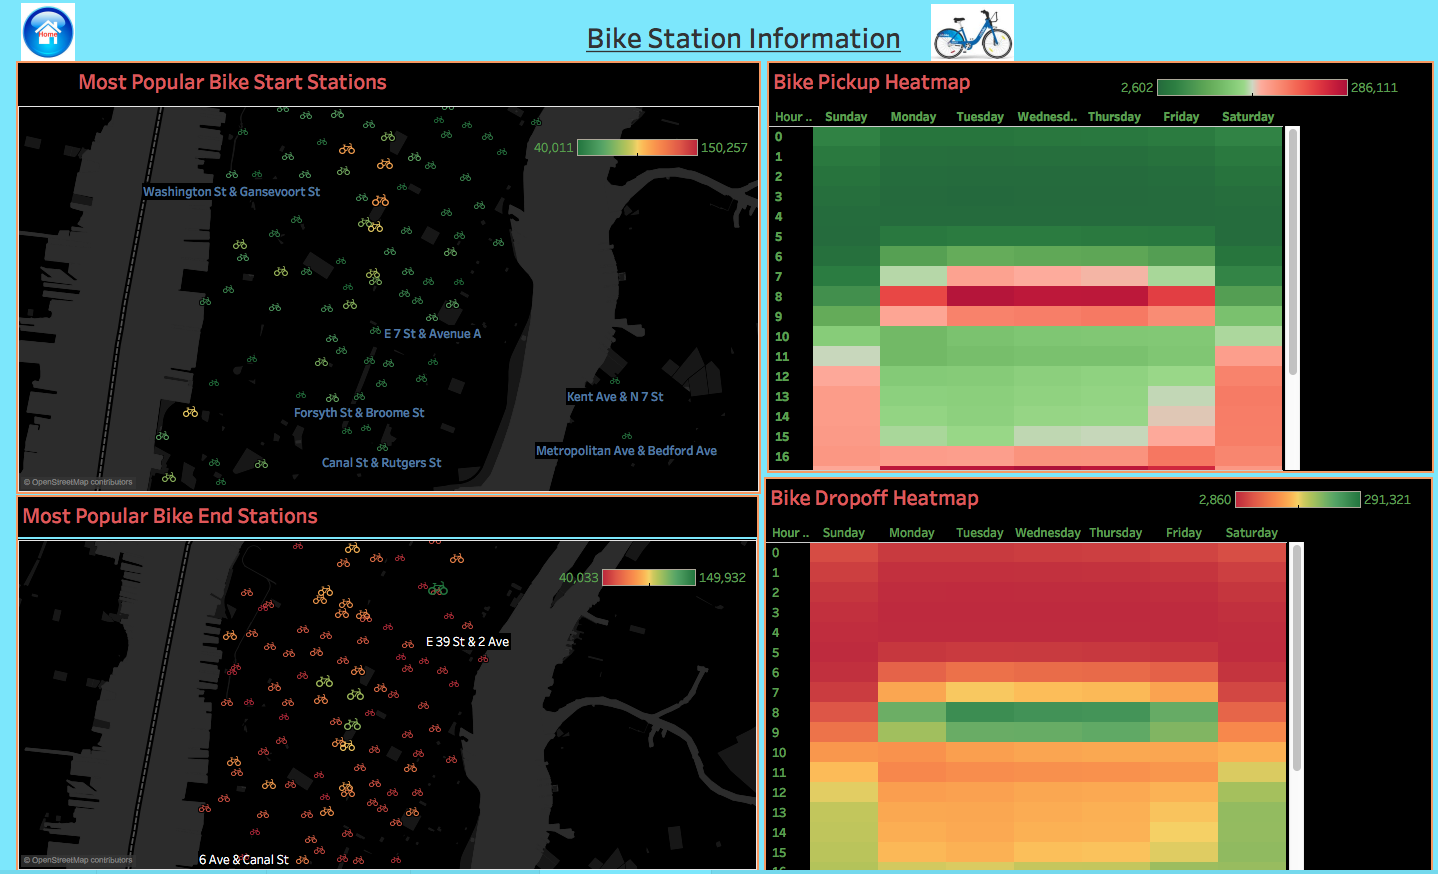

Layout of this report page (visuals, bound fields, positions):
{"tool":"tableau","page":{"name":"Bike Station Information","canvas":[1000,1000],"units":"permille","ordinal":1},"visuals":[{"type":"dashboard-object","box":[0,3.4,66.7,66.9]},{"type":"image","param":"/Users/minaljajoo/Documents/My Tableau Repository/Shapes/custom/actual_bike.jpeg","box":[646.9,5.2,99.3,65.2]},{"type":"title","box":[354.8,12,323.8,61.8]},{"type":"worksheet","title":"Bike Pickup Heatmap","mark":"Automatic","rows":["starttime"],"cols":["starttime"],"box":[533,70.2,463,473.7]},{"type":"worksheet","title":"Popular Bike StartStations","mark":"Shape","rows":["start station latitude"],"cols":["start station longitude"],"box":[11.4,70.3,517.5,497.4]},{"type":"legend","title":"Bike Pickup Heatmap","param":"[federated.14ladbp1xfaqif180skau13ugwz1].[sum:Number of Records:qk]","box":[775.4,86.1,198.5,100.5]},{"type":"legend","title":"Popular Bike StartStations","param":"[federated.14ladbp1xfaqif180skau13ugwz1].[sum:Number of Records:qk]","box":[367.8,154.7,154.6,79.7]},{"type":"legend","title":"Bike Dropoff Heatmap","param":"[federated.14ladbp1xfaqif180skau13ugwz1].[sum:Number of Records:qk]","box":[829.9,559.8,153.8,82.9]},{"type":"worksheet","title":"Popular Bike EndStations","mark":"Shape","rows":["end station latitude"],"cols":["end station longitude"],"box":[11.4,569.4,515.9,433.8]},{"type":"legend","title":"Popular Bike EndStations","param":"[federated.14ladbp1xfaqif180skau13ugwz1].[sum:Number of Records:qk]","box":[385.7,649.1,135.9,95.7]}]}

Visuals, with their boxes on the dashboard's canvas, which has no fixed pixel size, in thousandths of its width and height (x1, y1, x2, y2). These are canvas units, not pixel positions in the 1438x874 screenshot, which may show the page scaled, cropped or inside an application window:
dashboard-object: 0 3 67 70
image: 647 5 746 70
title: 355 12 679 74
"Bike Pickup Heatmap" worksheet: 533 70 996 544
"Popular Bike StartStations" worksheet (Shape marks): 11 70 529 568
"Bike Pickup Heatmap" legend: 775 86 974 187
"Popular Bike StartStations" legend: 368 155 522 234
"Bike Dropoff Heatmap" legend: 830 560 984 643
"Popular Bike EndStations" worksheet (Shape marks): 11 569 527 1003
"Popular Bike EndStations" legend: 386 649 522 745
